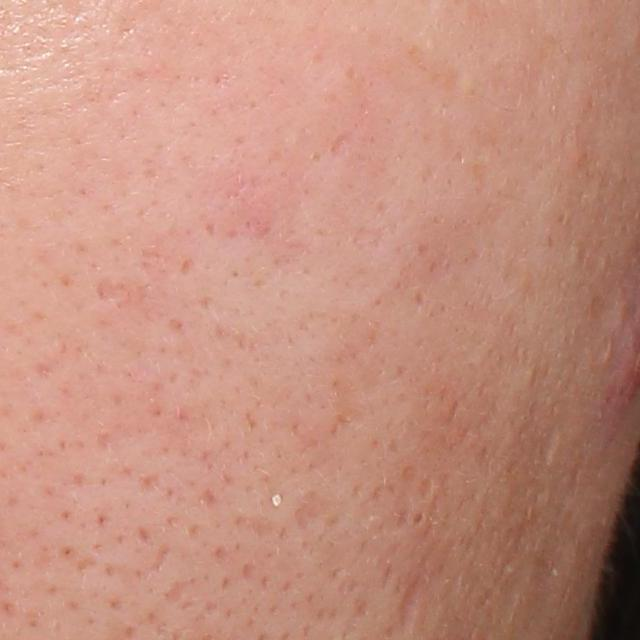atrophic_scar: (92, 276, 148, 318), (291, 491, 340, 537), (393, 575, 421, 637), (325, 127, 360, 160), (415, 474, 438, 506)
